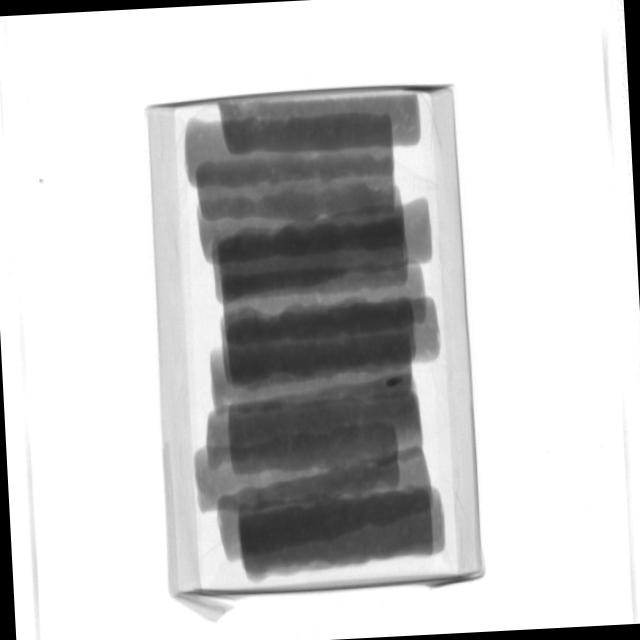ym: (388, 379, 402, 389)
